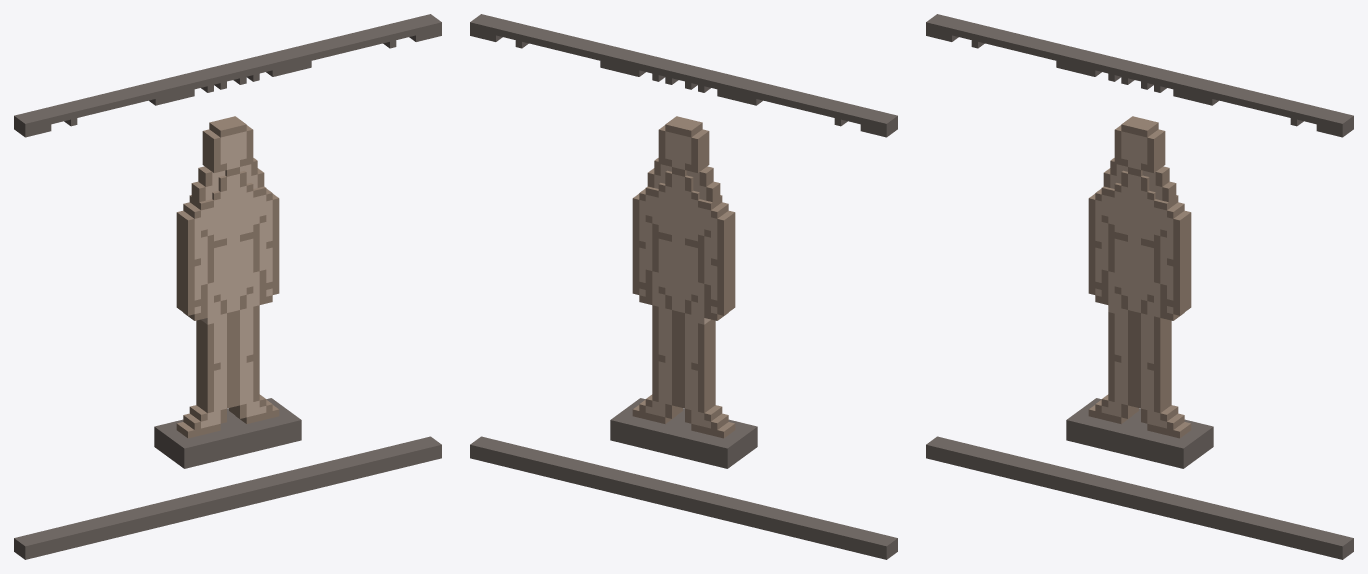
File: Kouros.fbx
3 renders of one model, left to right at view 1: azimuth 30°, elevation 25°; view 2: azimuth 150°, elevation 25°; view 3: azimuth 330°, elevation 25°, orthographic.
Visible parts, largest first — view 1: generated; view 2: generated; view 3: generated.
Boxes of the visible parts, box(x1,y1,x2,y2) form: generated: box(14, 14, 441, 559); generated: box(470, 14, 897, 559); generated: box(926, 14, 1353, 559).
Size of the model in its own units: 64 by 64 by 8.
